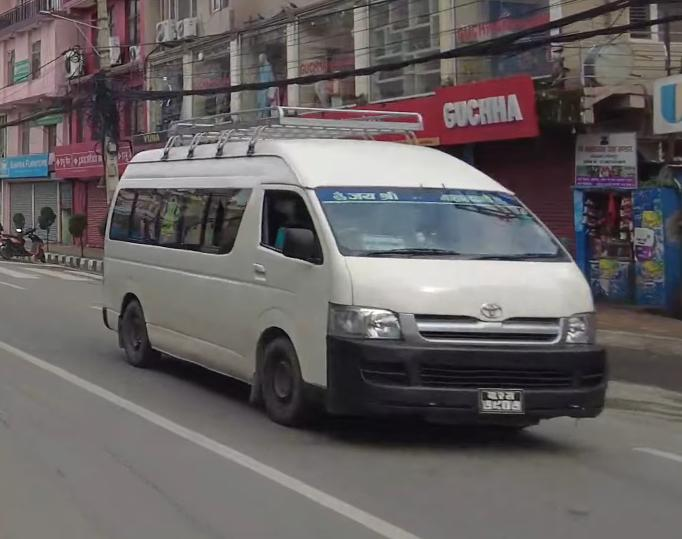micro_bus: (92, 124, 612, 440)
scooter: (0, 224, 48, 263)
